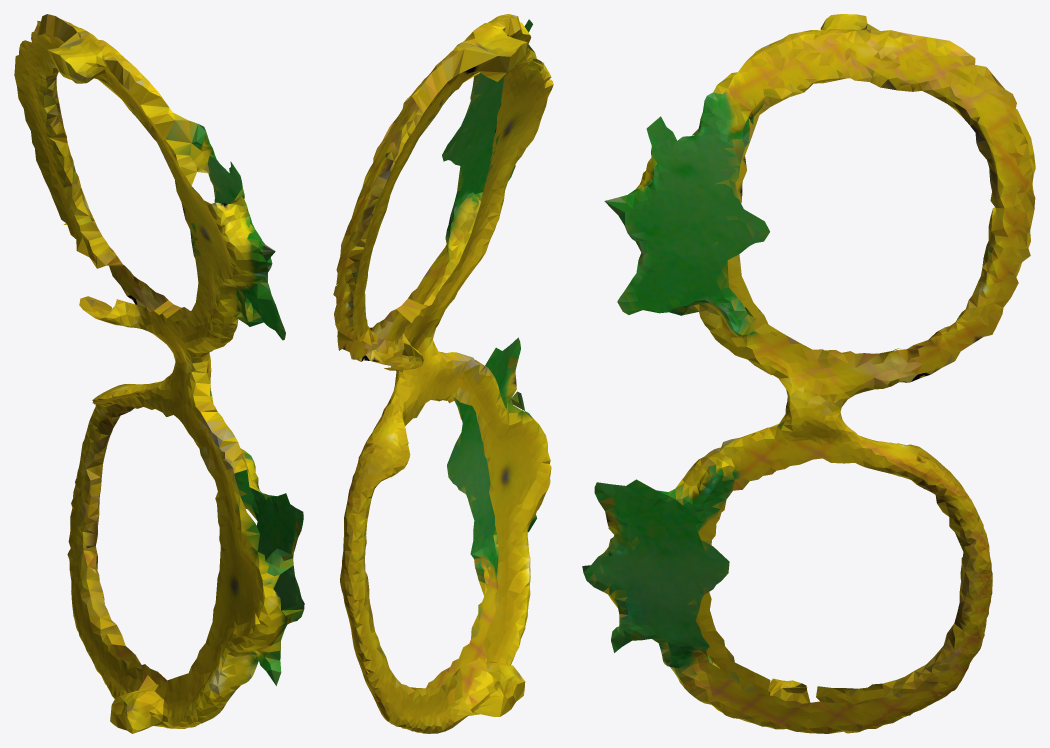
3 views of the same model, side by side, from view 1: azimuth 30°, elevation 25°; view 2: azimuth 150°, elevation 25°; view 3: azimuth 270°, elevation 25° (orthographic). The views are drawn at different scales.
Visible parts, largest first — view 1: base_link; view 2: base_link; view 3: base_link.
Part boxes in pixels (x1,y1,x2,y2): base_link: (14,14,304,733); base_link: (333,14,553,733); base_link: (582,14,1035,733).
Size of the model in its own units: 0.0262 by 0.1276 by 0.0763.
1 material, 1 textured.
